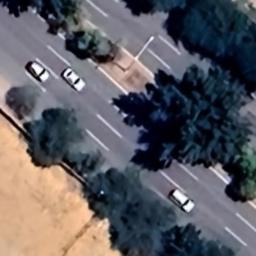SUV: (164, 184, 200, 216)
sedan: (61, 65, 89, 93)
van: (24, 60, 52, 85)
